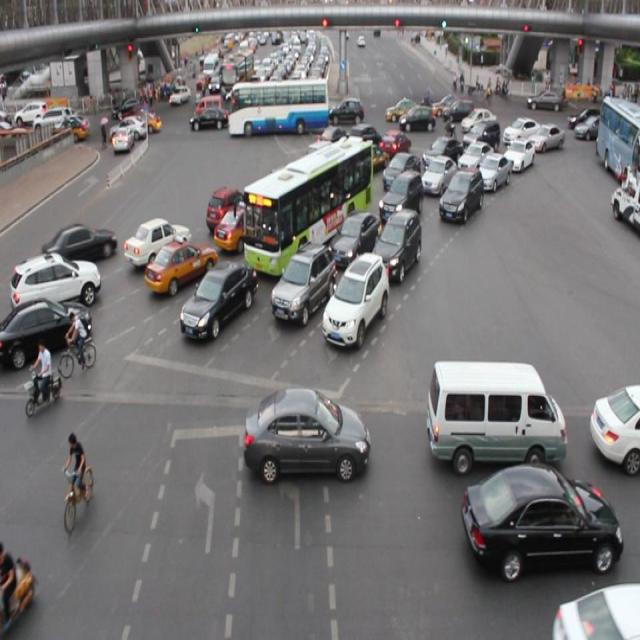car: (459, 460, 619, 570), (245, 386, 369, 482), (321, 252, 387, 347), (1, 299, 92, 366), (179, 261, 256, 340), (269, 240, 336, 322), (10, 252, 100, 313), (551, 582, 640, 640), (588, 382, 640, 475), (144, 238, 217, 295), (371, 208, 420, 283), (123, 216, 191, 266), (44, 221, 118, 264), (213, 202, 276, 251), (329, 212, 380, 266), (377, 170, 423, 223), (272, 181, 325, 227), (260, 166, 311, 212), (438, 167, 481, 221), (205, 187, 257, 230), (314, 163, 359, 202), (420, 154, 458, 197), (421, 135, 462, 174), (382, 151, 419, 192), (474, 154, 508, 196), (350, 140, 389, 175), (348, 124, 385, 160), (462, 120, 499, 155), (457, 140, 492, 176), (500, 117, 537, 146), (501, 138, 532, 171), (380, 129, 410, 163), (526, 124, 563, 151), (318, 125, 348, 157)
truck: (426, 358, 564, 468), (301, 140, 348, 182)
van: (244, 140, 372, 274)
